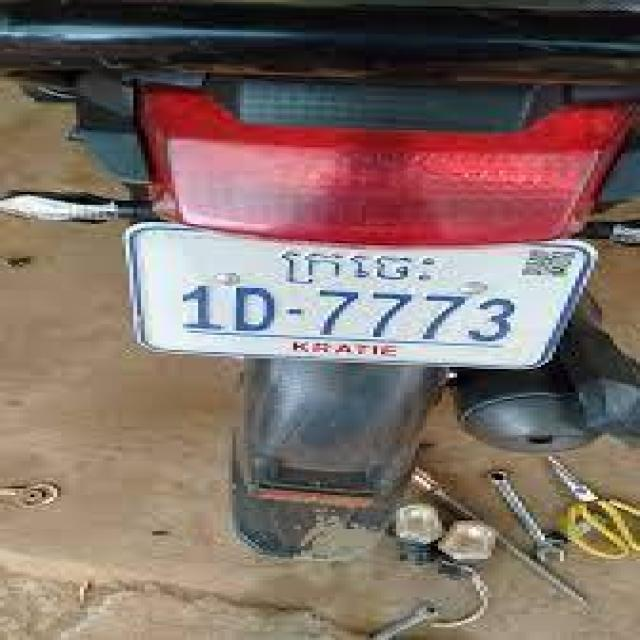Kratie: (282, 245, 438, 288)
